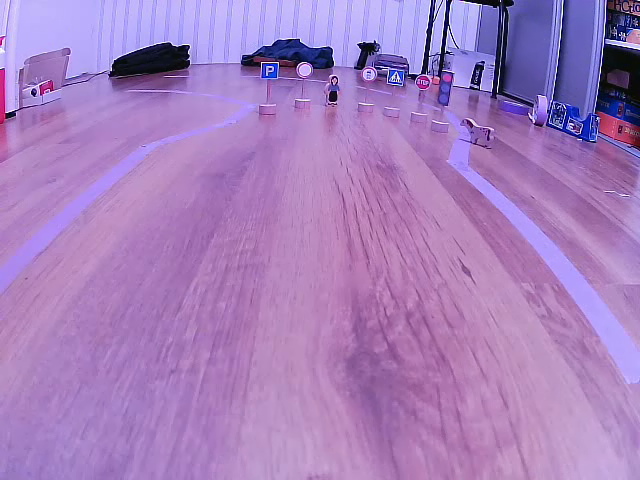fietspad: (362, 66, 376, 83)
mens: (323, 74, 342, 108)
paard: (458, 116, 496, 150)
parkeerbord: (260, 60, 281, 83)
roodlicht: (439, 69, 453, 106)
stopbord: (415, 73, 431, 91)
wegdicht: (296, 61, 313, 80)
zebrapad: (385, 68, 406, 87)
